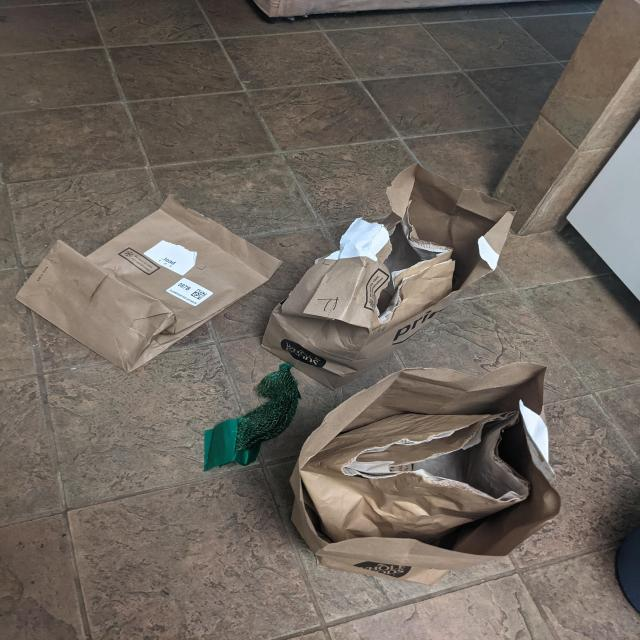litter: (289, 362, 561, 586), (261, 163, 517, 391), (14, 194, 283, 373), (204, 363, 302, 471)
